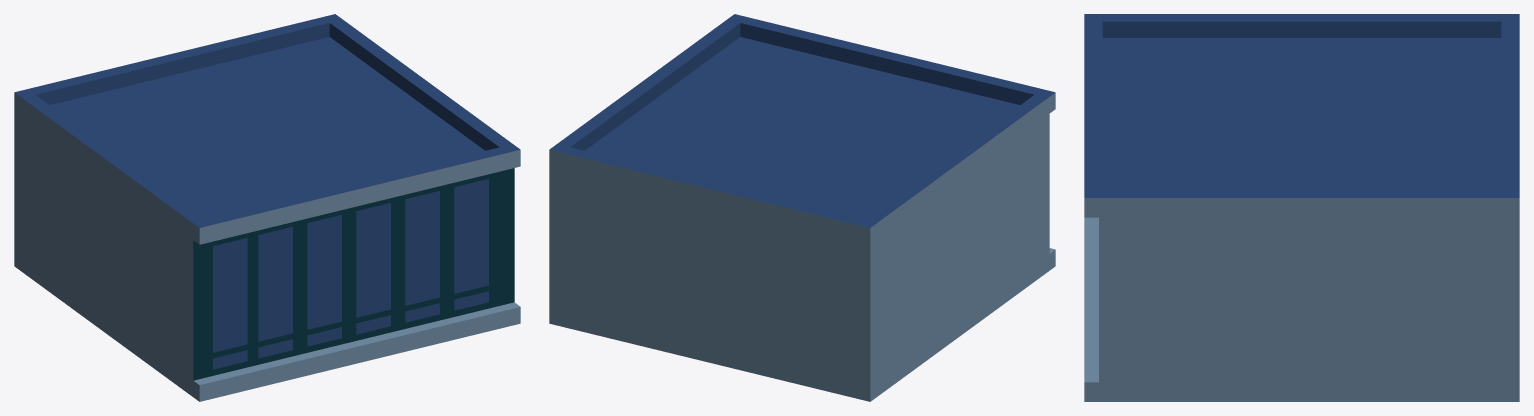
The model's file is EndOffice.fbx.
3 views of the same model, side by side, from view 1: azimuth 30°, elevation 25°; view 2: azimuth 150°, elevation 25°; view 3: azimuth 270°, elevation 25° (orthographic). The views are drawn at different scales.
Visible parts, largest first — view 1: EndOffice; view 2: EndOffice; view 3: EndOffice.
Boxes of the visible parts, <box> form: EndOffice: <box>14,14,520,401</box>; EndOffice: <box>549,14,1055,401</box>; EndOffice: <box>1084,14,1519,401</box>.
Size of the model in its own units: 600 by 311 by 600.
